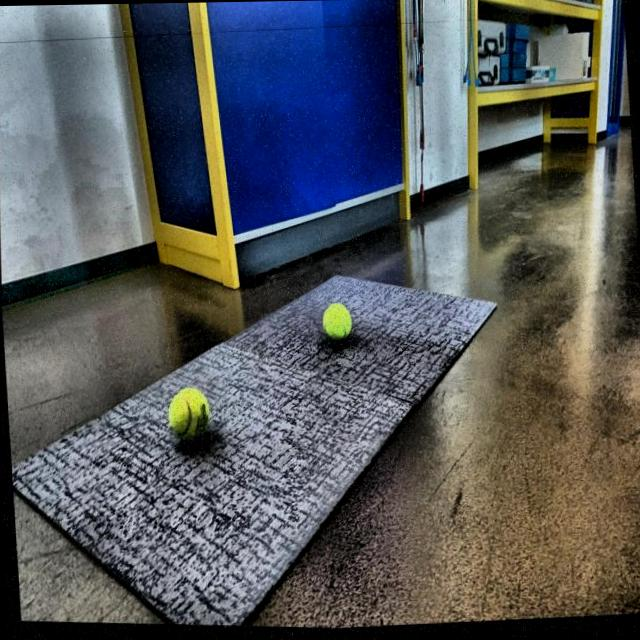Tennis Ball: (163, 386, 212, 451), (318, 297, 352, 349)
